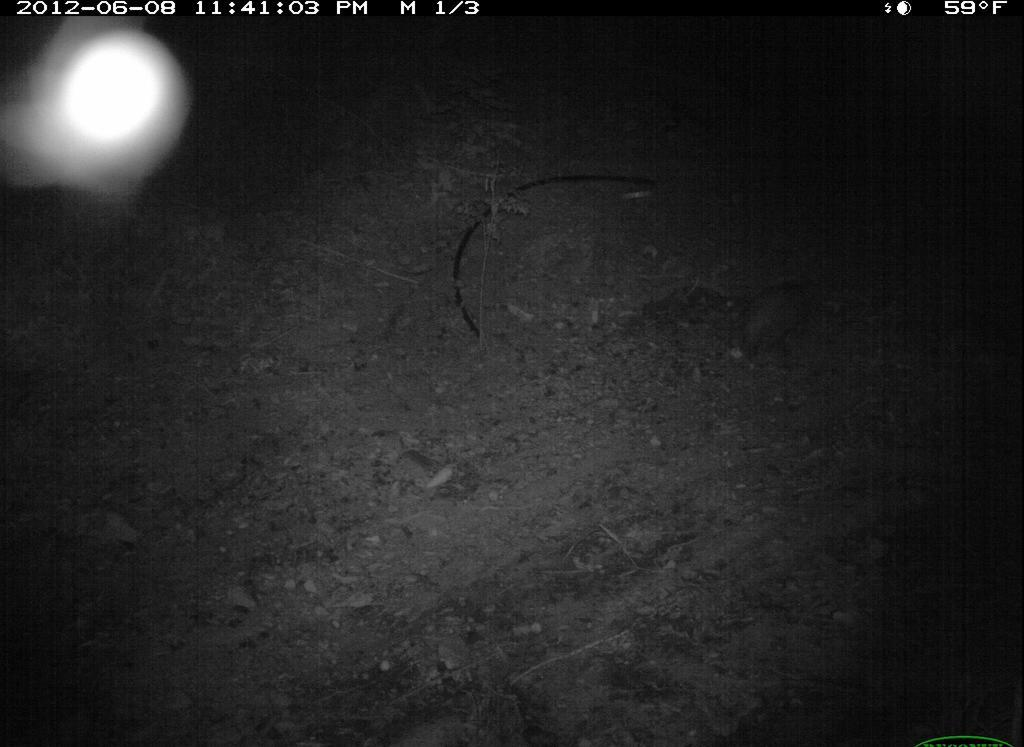opossum: (728, 271, 843, 365)
